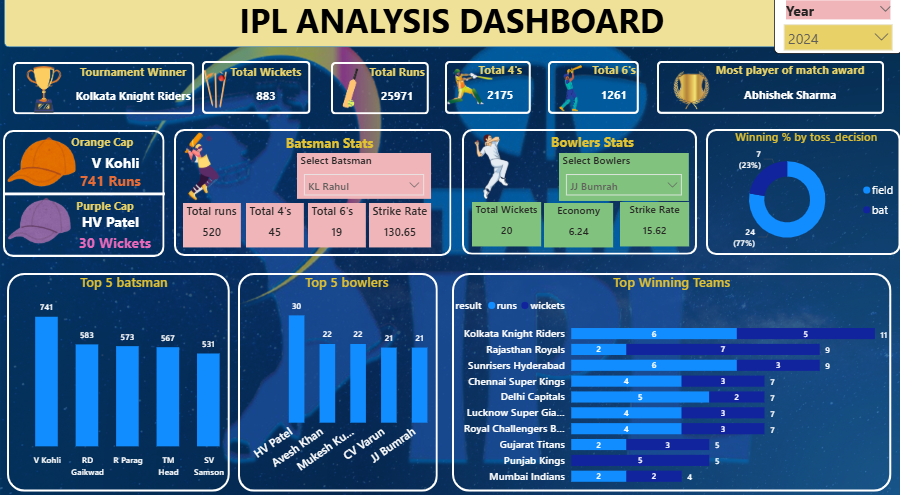

This screenshot's page, from the dashboard's own definition file:
{"tool":"powerbi","page":{"name":"Page 1","canvas":[1280,720],"ordinal":0},"visuals":[{"type":"shape","box":[5.3,0,1269.5,77],"z":0},{"type":"shape","box":[18.6,97.1,257.1,74.3],"z":1000},{"type":"shape","box":[286.4,96.5,153.7,75.1],"z":2000},{"type":"shape","box":[931.4,96.5,321.8,75.1],"z":3000},{"type":"shape","box":[777.3,96.5,128.7,75.1],"z":4000},{"type":"shape","box":[630.3,96.5,121.6,75.1],"z":5000},{"type":"slicer","fields":{"Values":["Date_Table.Year"]},"box":[1097.7,1.8,182.3,85],"z":6000},{"type":"card","title":"Tournament Winner","fields":{"Values":["matches.TournamentWinner"]},"box":[64.3,100,250,74.3],"z":7000},{"type":"card","title":"Total Runs","fields":{"Values":["Sum(deliveries.total_runs)"]},"box":[445.7,100,235.7,74.3],"z":8000},{"type":"shape","box":[468.6,97.1,138.6,74.3],"z":9000},{"type":"card","title":"Total Wickets","fields":{"Values":["Sum(deliveries.is_wicket)"]},"box":[215.7,100,322.9,74.3],"z":10000},{"type":"card","title":"Total 4''s","fields":{"Values":["CountNonNull(deliveries.batsman_runs)"]},"box":[618.5,98.3,182.3,75.1],"z":11000},{"type":"card","title":"Total 6''s","fields":{"Values":["CountNonNull(deliveries.batsman_runs)"]},"box":[777.7,98.3,184.1,75.1],"z":12000},{"type":"card","title":"Most player of match award","fields":{"Values":["Min(matches.player_of_match)"]},"box":[999.3,98.3,241.3,75.1],"z":13000},{"type":"shape","box":[4.7,193.9,228.9,179.9],"z":14000},{"type":"shape","box":[5,195,228.3,178.3],"z":15000},{"type":"textbox","box":[5.4,194.9,278.9,35.8],"z":16000},{"type":"textbox","box":[64.4,284.2,166.3,225.3],"z":17000},{"type":"card","fields":{"Values":["Min(deliveries.batter)"]},"box":[95.8,212.6,137.8,58.4],"z":18000},{"type":"card","fields":{"Values":["deliveries.Orange Cap Holder Runs"]},"box":[111.7,236.7,121.7,58.3],"z":19000},{"type":"card","fields":{"Values":["Min(deliveries.bowler)"]},"box":[83.3,298.3,150,61.7],"z":20000},{"type":"card","fields":{"Values":["deliveries.Purple Cap Holder Wickets"]},"box":[100,295,128.3,108.3],"z":21000},{"type":"shape","box":[246.7,193.3,393.3,180],"z":22000},{"type":"shape","box":[655,193.3,333.3,178.3],"z":23000},{"type":"slicer","title":"Select Batsman","fields":{"Values":["deliveries.batter"]},"box":[428.6,230,190,65.7],"z":24000},{"type":"card","title":"Total runs","fields":{"Values":["Sum(deliveries.batsman_runs)"]},"box":[260,298.3,81.7,63.3],"z":25000},{"type":"card","title":"Total 6''s","fields":{"Values":["CountNonNull(deliveries.batsman_runs)"]},"box":[436.7,298.3,81.7,63.3],"z":26000},{"type":"card","title":"Total 4''s","fields":{"Values":["CountNonNull(deliveries.batsman_runs)"]},"box":[348.3,298.3,81.7,63.3],"z":27000},{"type":"card","title":"Strike Rate","fields":{"Values":["deliveries.Batsman Strike Rate"]},"box":[523.3,298.3,88.3,63.3],"z":28000},{"type":"slicer","title":"Select Bowlers","fields":{"Values":["deliveries.bowler"]},"box":[797.1,230,184.3,68.6],"z":29000},{"type":"card","title":"Total Wickets","fields":{"Values":["Sum(deliveries.is_wicket)"]},"box":[668.3,296.7,98.3,63.3],"z":30000},{"type":"card","title":"Economy","fields":{"Values":["deliveries.Bowler Economy"]},"box":[771.7,298.3,98.3,63.3],"z":31000},{"type":"card","title":"Strike Rate","fields":{"Values":["deliveries.Bowler Strike Rate"]},"box":[878.3,296.7,98.3,63.3],"z":32000},{"type":"textbox","box":[370,194.3,194.3,42.9],"z":33000},{"type":"textbox","box":[620,192.9,357.1,188.6],"z":34000},{"type":"donutChart","title":"Winning % by toss_decision","fields":{"Y":["CountNonNull(matches.winner)"],"Category":["matches.toss_decision"]},"box":[1004.3,192.9,275.7,178.6],"z":35000},{"type":"shape","box":[1000,192.9,275.7,178.6],"z":36000},{"type":"columnChart","title":"Top 5 batsman","fields":{"Category":["deliveries.batter"],"Y":["Sum(deliveries.batsman_runs)"]},"box":[10,396.7,331.7,296.7],"z":37000},{"type":"shape","box":[336.7,396.7,283.3,310],"z":38000},{"type":"columnChart","title":"Top 5 bowlers","fields":{"Category":["deliveries.bowler"],"Y":["Sum(deliveries.is_wicket)"]},"box":[352.9,397.1,277.1,297.1],"z":39000},{"type":"shape","box":[10,397.1,315.7,310],"z":40000},{"type":"barChart","title":"Top Winning Teams","fields":{"Category":["matches.winner"],"Y":["CountNonNull(matches.winner)"],"Series":["matches.result"]},"box":[640,397.1,622.9,310],"z":41000},{"type":"shape","box":[640,397.1,622.9,310],"z":42000},{"type":"image","box":[10,94.3,104.3,82.9],"z":43000},{"type":"image","box":[234.3,100,142.9,74.3],"z":44000},{"type":"image","box":[362.9,94.3,267.1,80],"z":45000},{"type":"image","box":[480,94.3,371.4,78.6],"z":46000},{"type":"image","box":[668.6,94.3,282.9,80],"z":47000},{"type":"image","box":[841.4,100,278.6,77.1],"z":48000},{"type":"image","box":[0,282.9,114.3,80],"z":49000},{"type":"image","box":[5.7,32.9,108.6,415.7],"z":50000},{"type":"image","box":[100,192.9,430,105.7],"z":51000},{"type":"image","box":[518.6,195.7,348.6,100],"z":52000}]}

Visuals, with their boxes in screenshot pixels (x1, y1, x2, y2), scaled from the page's 1280x720 canvas onto the 900x495 screenshot:
shape: {"x1": 4, "y1": 0, "x2": 896, "y2": 53}
shape: {"x1": 13, "y1": 67, "x2": 194, "y2": 118}
shape: {"x1": 201, "y1": 66, "x2": 309, "y2": 118}
shape: {"x1": 655, "y1": 66, "x2": 881, "y2": 118}
shape: {"x1": 547, "y1": 66, "x2": 637, "y2": 118}
shape: {"x1": 443, "y1": 66, "x2": 529, "y2": 118}
slicer - Date_Table.Year: {"x1": 772, "y1": 1, "x2": 899, "y2": 60}
"Tournament Winner" card: {"x1": 45, "y1": 69, "x2": 221, "y2": 120}
"Total Runs" card: {"x1": 313, "y1": 69, "x2": 479, "y2": 120}
shape: {"x1": 329, "y1": 67, "x2": 427, "y2": 118}
"Total Wickets" card: {"x1": 152, "y1": 69, "x2": 379, "y2": 120}
"Total 4''s" card: {"x1": 435, "y1": 68, "x2": 563, "y2": 119}
"Total 6''s" card: {"x1": 547, "y1": 68, "x2": 676, "y2": 119}
"Most player of match award" card: {"x1": 703, "y1": 68, "x2": 872, "y2": 119}
shape: {"x1": 3, "y1": 133, "x2": 164, "y2": 257}
shape: {"x1": 4, "y1": 134, "x2": 164, "y2": 257}
textbox: {"x1": 4, "y1": 134, "x2": 200, "y2": 159}
textbox: {"x1": 45, "y1": 195, "x2": 162, "y2": 350}
card - Min(deliveries.batter): {"x1": 67, "y1": 146, "x2": 164, "y2": 186}
card - deliveries.Orange Cap Holder Runs: {"x1": 79, "y1": 163, "x2": 164, "y2": 203}
card - Min(deliveries.bowler): {"x1": 59, "y1": 205, "x2": 164, "y2": 248}
card - deliveries.Purple Cap Holder Wickets: {"x1": 70, "y1": 203, "x2": 161, "y2": 277}
shape: {"x1": 173, "y1": 133, "x2": 450, "y2": 257}
shape: {"x1": 461, "y1": 133, "x2": 695, "y2": 255}
"Select Batsman" slicer: {"x1": 301, "y1": 158, "x2": 435, "y2": 203}
"Total runs" card: {"x1": 183, "y1": 205, "x2": 240, "y2": 249}
"Total 6''s" card: {"x1": 307, "y1": 205, "x2": 364, "y2": 249}
"Total 4''s" card: {"x1": 245, "y1": 205, "x2": 302, "y2": 249}
"Strike Rate" card: {"x1": 368, "y1": 205, "x2": 430, "y2": 249}
"Select Bowlers" slicer: {"x1": 560, "y1": 158, "x2": 690, "y2": 205}
"Total Wickets" card: {"x1": 470, "y1": 204, "x2": 539, "y2": 248}
"Economy" card: {"x1": 543, "y1": 205, "x2": 612, "y2": 249}
"Strike Rate" card: {"x1": 618, "y1": 204, "x2": 687, "y2": 248}
textbox: {"x1": 260, "y1": 134, "x2": 397, "y2": 163}
textbox: {"x1": 436, "y1": 133, "x2": 687, "y2": 262}
"Winning % by toss_decision" donutChart: {"x1": 706, "y1": 133, "x2": 899, "y2": 255}
shape: {"x1": 703, "y1": 133, "x2": 897, "y2": 255}
"Top 5 batsman" columnChart: {"x1": 7, "y1": 273, "x2": 240, "y2": 477}
shape: {"x1": 237, "y1": 273, "x2": 436, "y2": 486}
"Top 5 bowlers" columnChart: {"x1": 248, "y1": 273, "x2": 443, "y2": 477}
shape: {"x1": 7, "y1": 273, "x2": 229, "y2": 486}
"Top Winning Teams" barChart: {"x1": 450, "y1": 273, "x2": 888, "y2": 486}
shape: {"x1": 450, "y1": 273, "x2": 888, "y2": 486}
image: {"x1": 7, "y1": 65, "x2": 80, "y2": 122}
image: {"x1": 165, "y1": 69, "x2": 265, "y2": 120}
image: {"x1": 255, "y1": 65, "x2": 443, "y2": 120}
image: {"x1": 338, "y1": 65, "x2": 599, "y2": 119}
image: {"x1": 470, "y1": 65, "x2": 669, "y2": 120}
image: {"x1": 592, "y1": 69, "x2": 788, "y2": 122}
image: {"x1": 0, "y1": 194, "x2": 80, "y2": 249}
image: {"x1": 4, "y1": 23, "x2": 80, "y2": 308}
image: {"x1": 70, "y1": 133, "x2": 373, "y2": 205}
image: {"x1": 365, "y1": 135, "x2": 610, "y2": 203}
